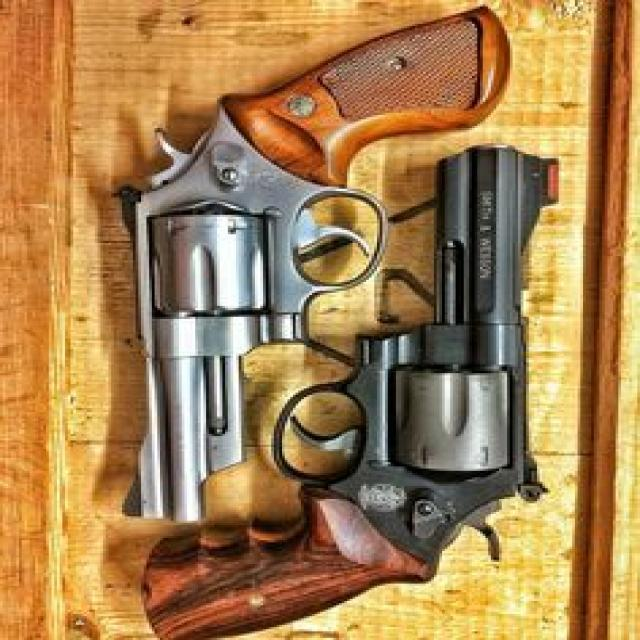revolver: (56, 0, 517, 531)
